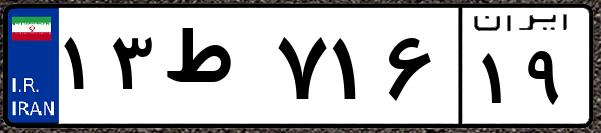1: (330, 28, 385, 110), (57, 26, 110, 100), (475, 38, 525, 113)
3: (110, 28, 158, 98)
6: (385, 28, 445, 110)
7: (270, 28, 330, 110)
9: (525, 38, 570, 115)
ط: (158, 20, 270, 120)
